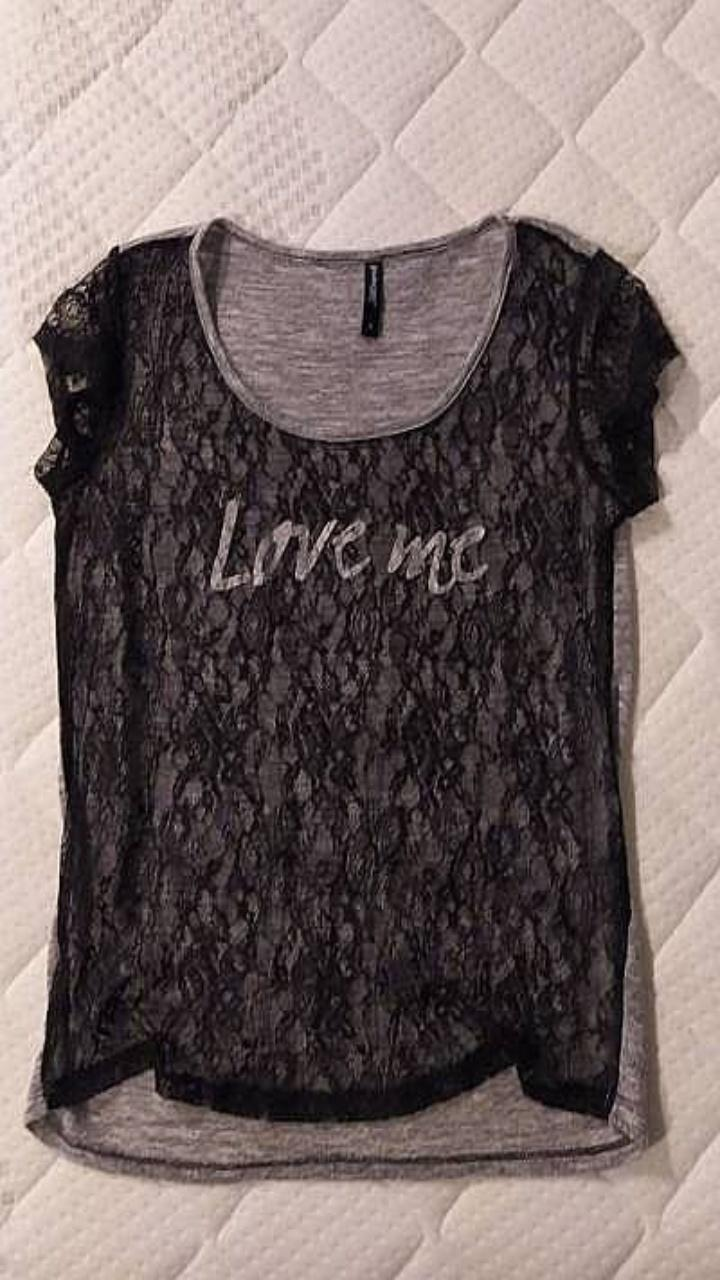T-Shirt: (26, 213, 678, 1179)
